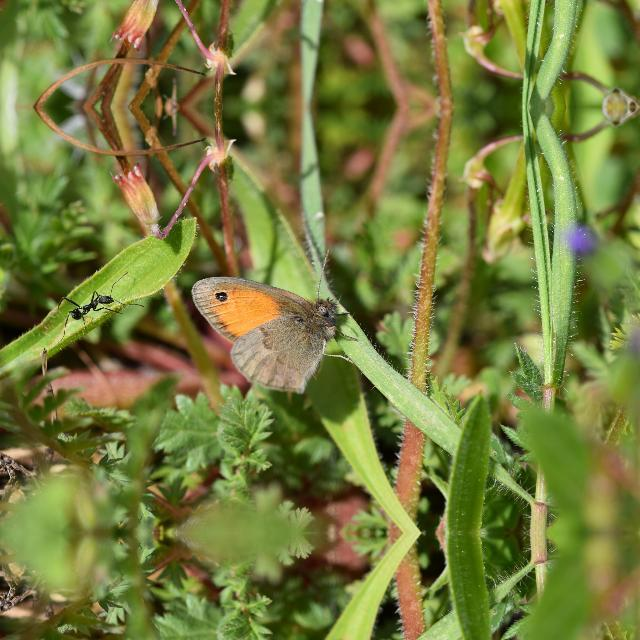Apheanogaster: (58, 286, 122, 324)
